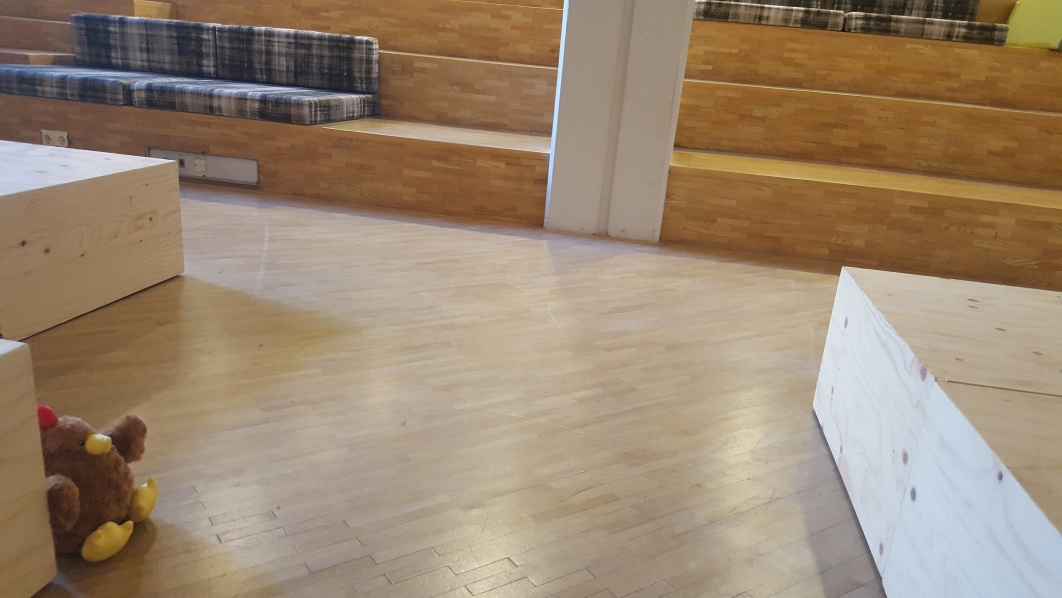chicken: (34, 403, 161, 563)
